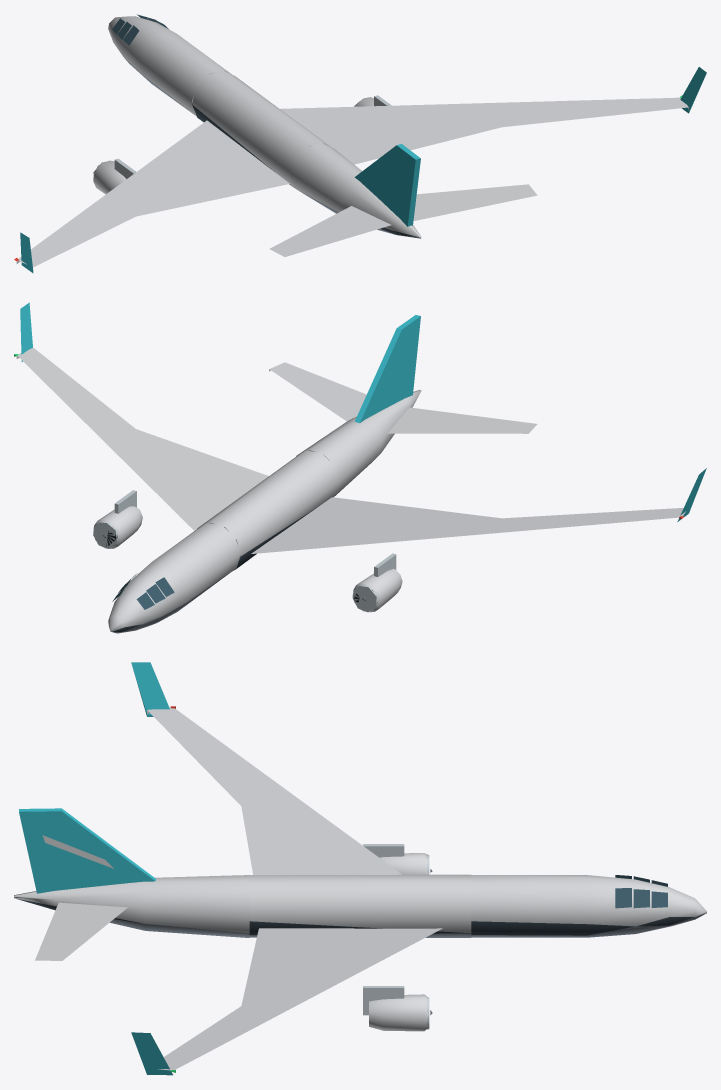
Rendered from aether-lod1.glb.
3 views of the same model, one above another, from view 1: azimuth 30°, elevation 25°; view 2: azimuth 150°, elevation 25°; view 3: azimuth 270°, elevation 25° (orthographic). The views are drawn at different scales.
Visible parts, largest first — view 1: distant_airframe; view 2: distant_airframe; view 3: distant_airframe.
Part boxes in pixels (x1,y1,x2,y2): distant_airframe: [14, 14, 706, 272]; distant_airframe: [14, 302, 706, 633]; distant_airframe: [14, 662, 706, 1075].
Bounding box in the file's own units: 36.72 × 6.88 × 29.
